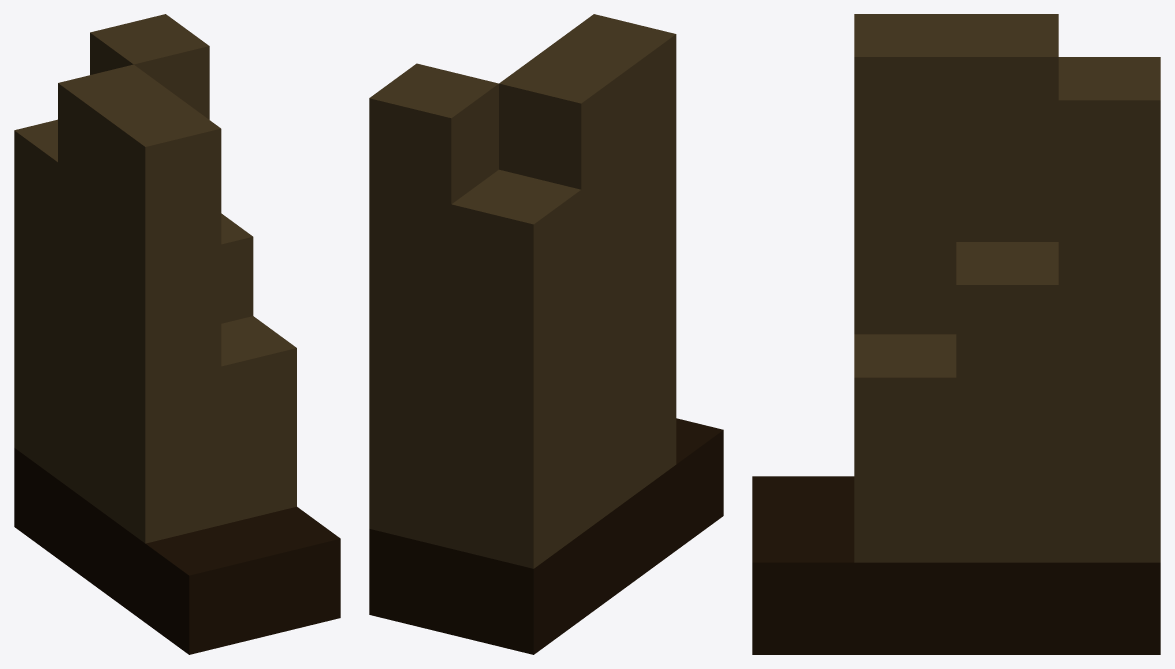
File: Bear_backlegR.fbx
3 renders of one model, left to right at view 1: azimuth 30°, elevation 25°; view 2: azimuth 150°, elevation 25°; view 3: azimuth 270°, elevation 25°, orthographic. The views are drawn at different scales.
Parts seen in each view (by area): view 1: BLegR; view 2: BLegR; view 3: BLegR.
Part boxes in pixels (x1,y1,x2,y2): BLegR: (14, 14, 340, 654); BLegR: (369, 14, 723, 654); BLegR: (752, 14, 1160, 654).
Size of the model in its own units: 20 by 60 by 40.
